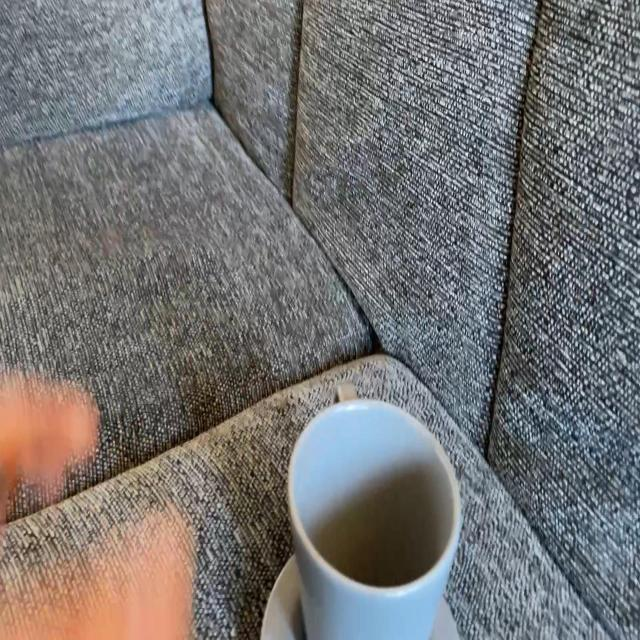cup: (282, 384, 468, 640)
